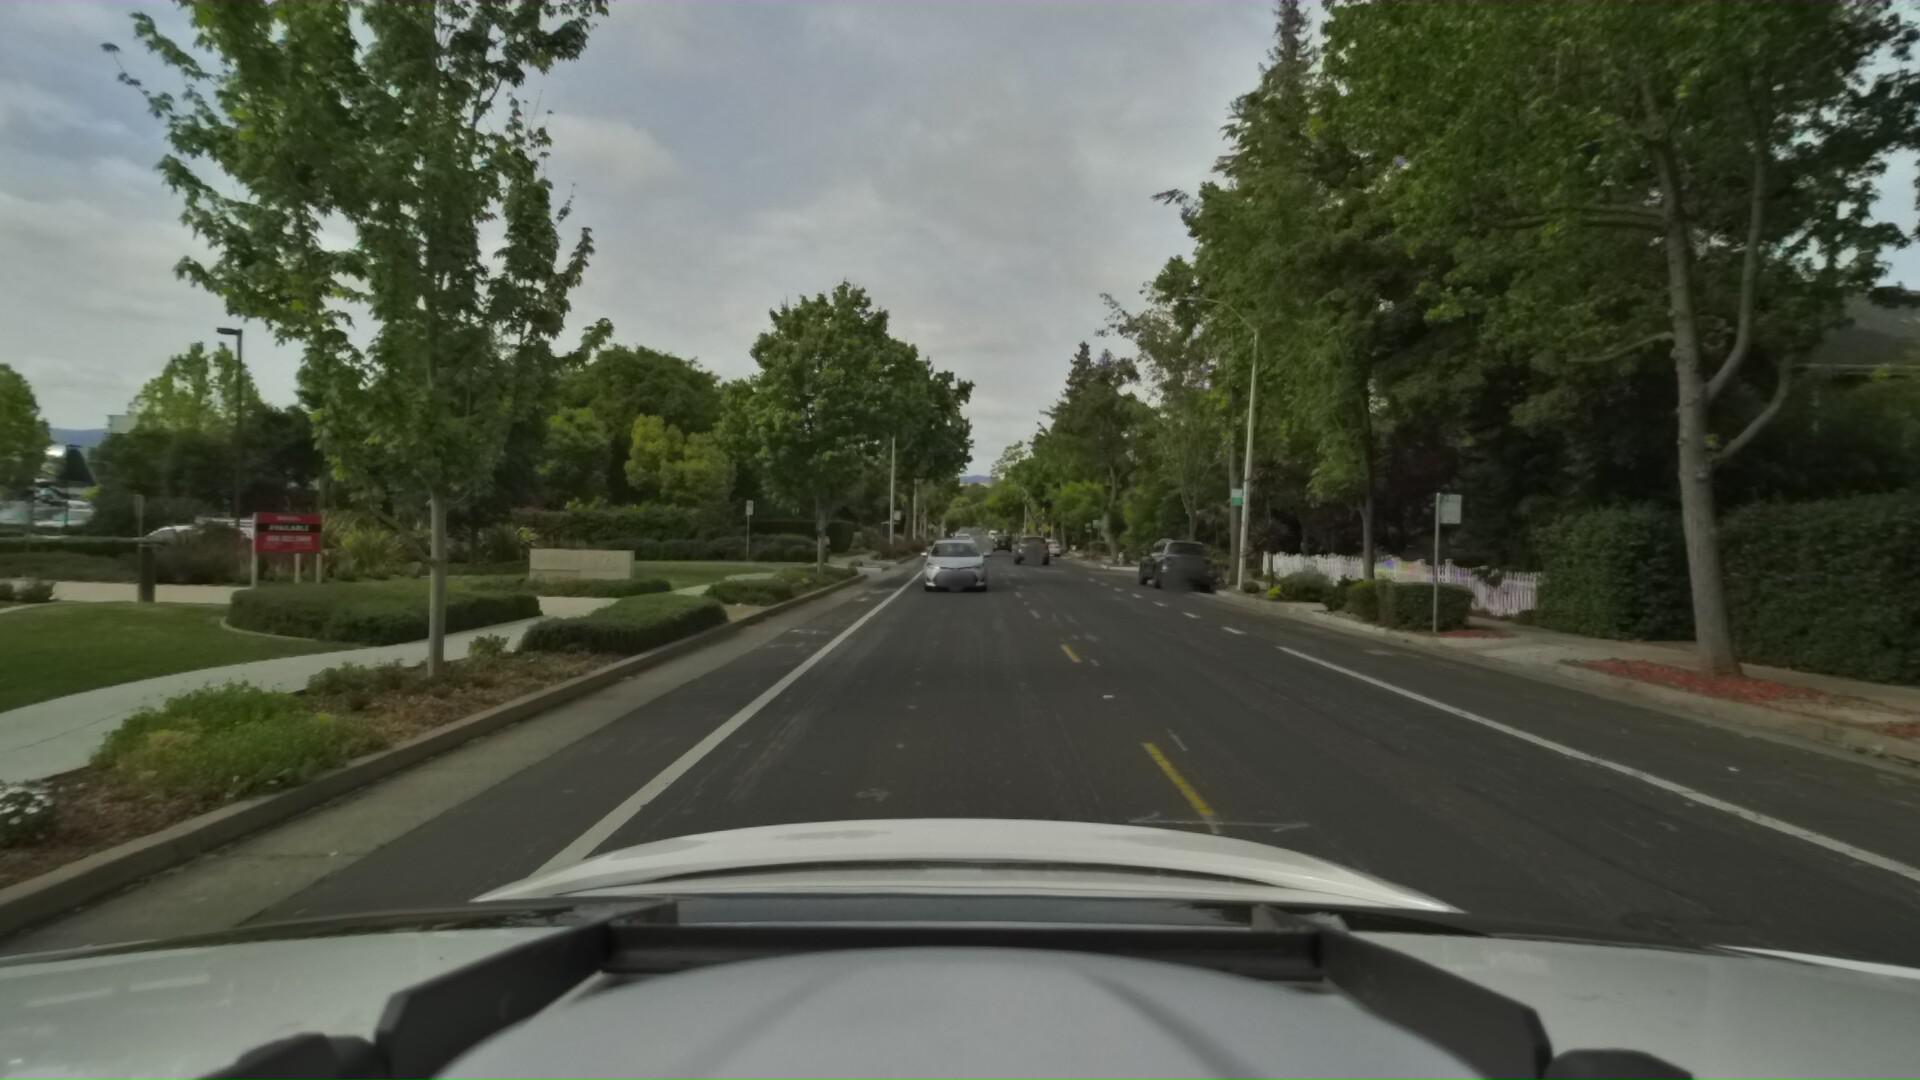car: (1131, 533, 1217, 589), (916, 529, 986, 587), (1011, 527, 1048, 562), (949, 527, 981, 555), (1033, 533, 1059, 551)
